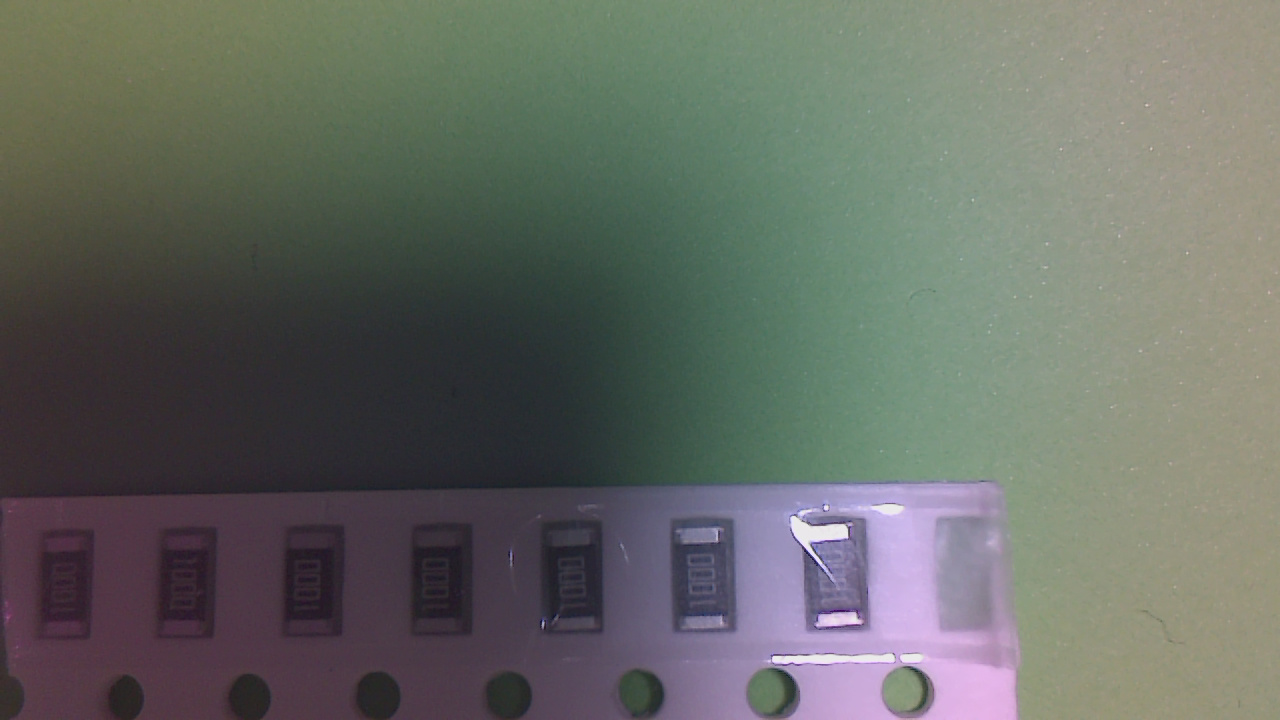Resistor: (676, 528, 737, 635), (810, 526, 869, 634), (548, 535, 607, 640), (159, 536, 218, 641), (287, 536, 345, 639), (415, 534, 471, 638), (43, 540, 93, 645)
